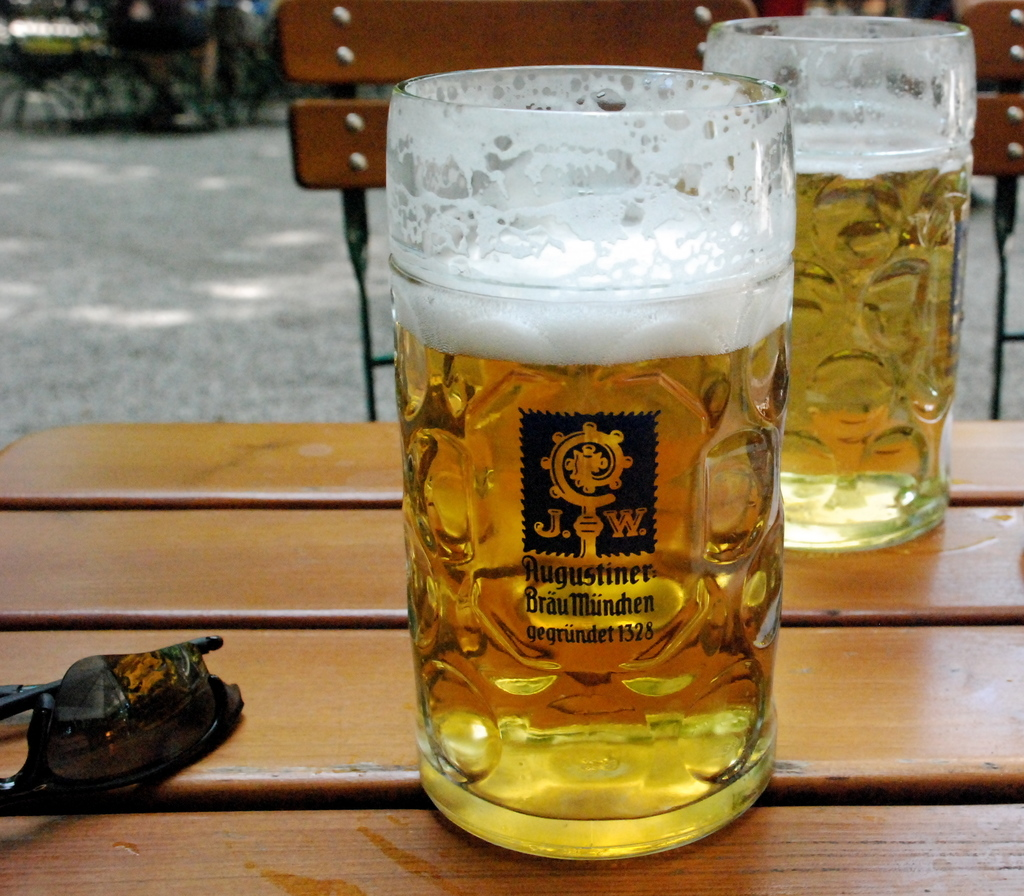Beer: (366, 44, 810, 858), (704, 0, 967, 566)
